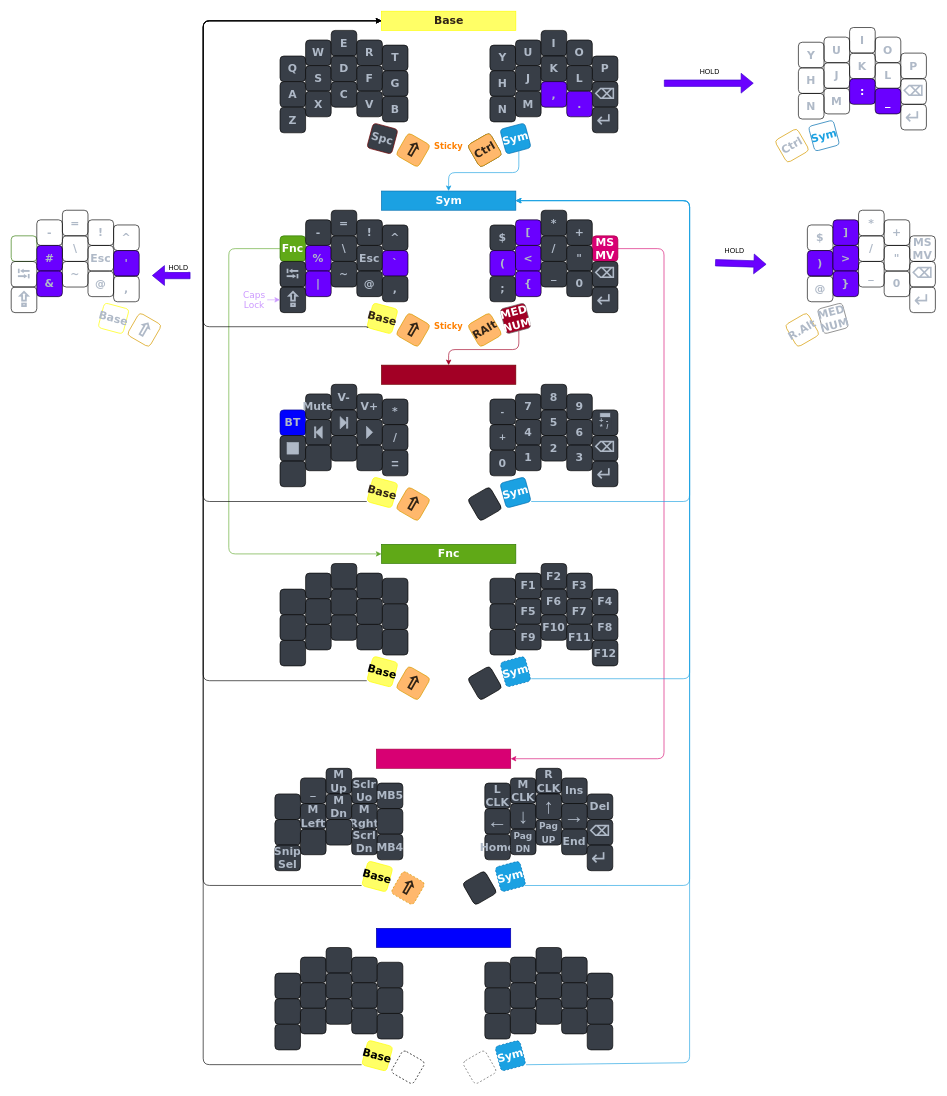
The diagram is 947 pixels wide and 1096 high, and some of its shapes have lost their labels. The box of each missing label's shape, as (x1, y1, x2, y2) in pixels:
Bluetooth: (376, 928, 511, 948)
MEDIA/NUMBER: (381, 364, 516, 384)
MOUSE/MOVE: (376, 748, 511, 768)
